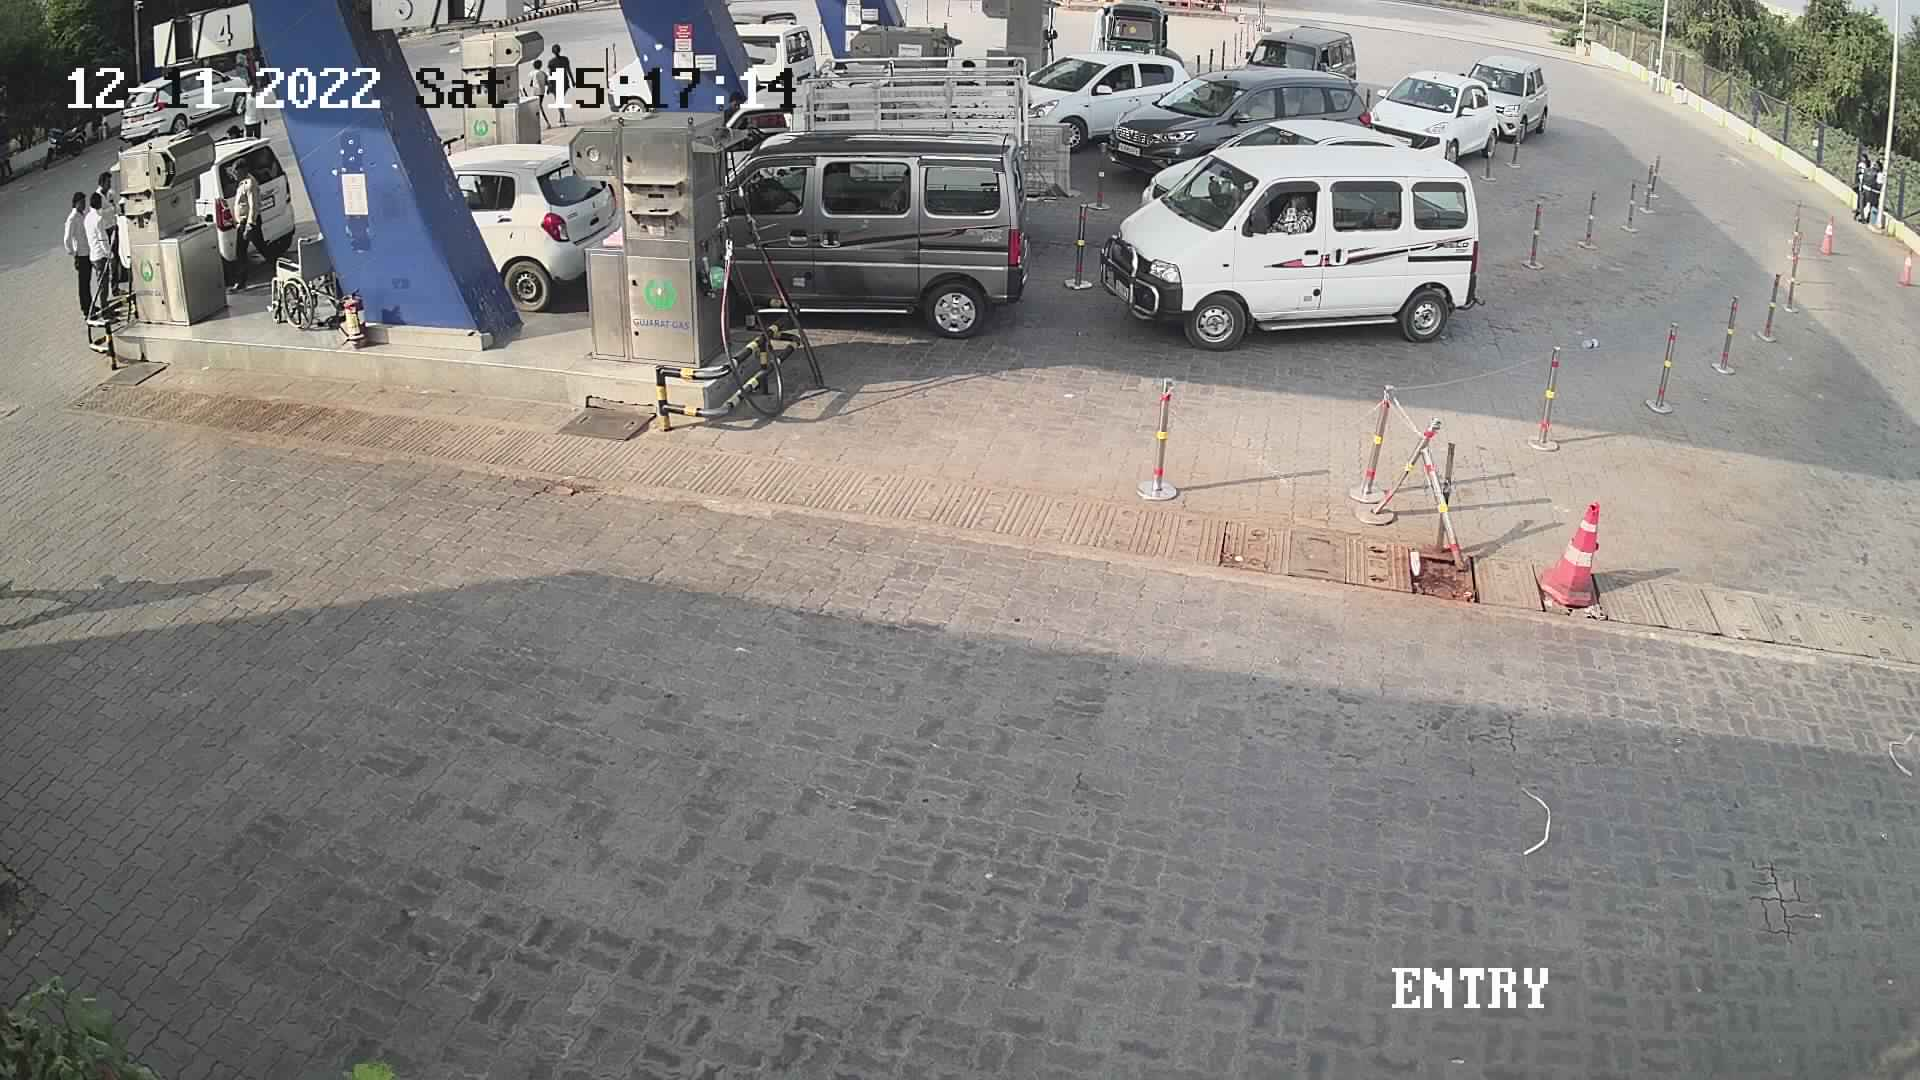Auto: (1085, 1, 1182, 67)
Bike: (30, 105, 104, 167)
Car: (1096, 138, 1489, 347), (705, 125, 1033, 342), (398, 123, 638, 320), (715, 45, 1036, 181), (108, 111, 309, 286), (1097, 65, 1367, 171), (1134, 113, 1418, 214), (1014, 40, 1195, 158), (1361, 65, 1506, 167), (111, 59, 260, 138), (1456, 51, 1552, 146), (1236, 24, 1362, 95), (729, 15, 825, 95)
